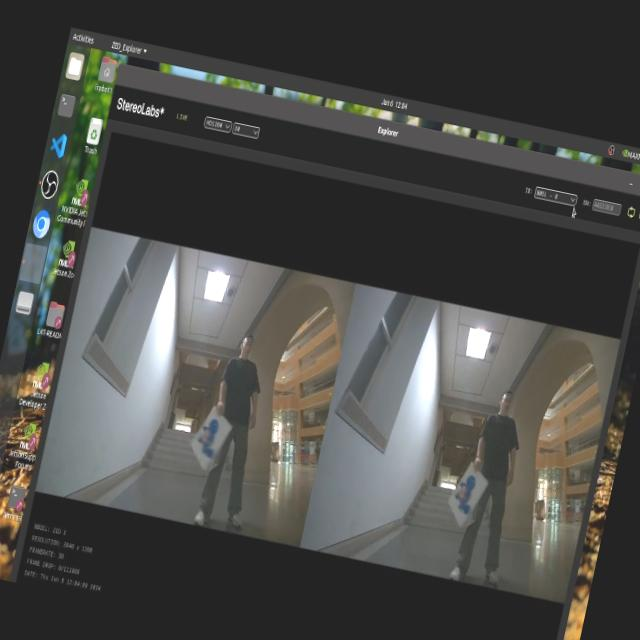blue: (194, 403, 237, 469), (445, 468, 479, 515)
